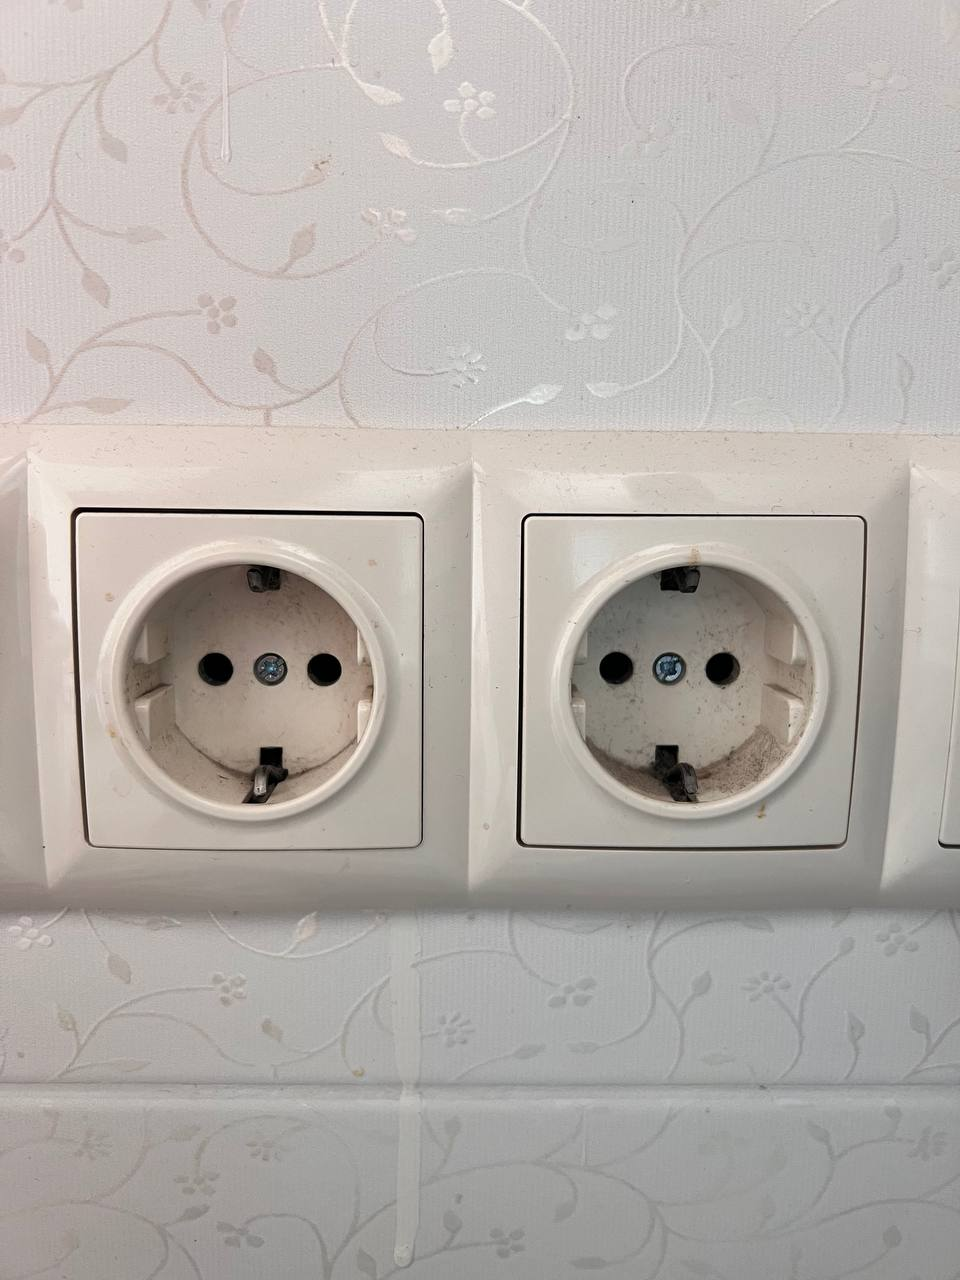Power Outlet: (24, 431, 467, 902), (470, 435, 894, 898)
